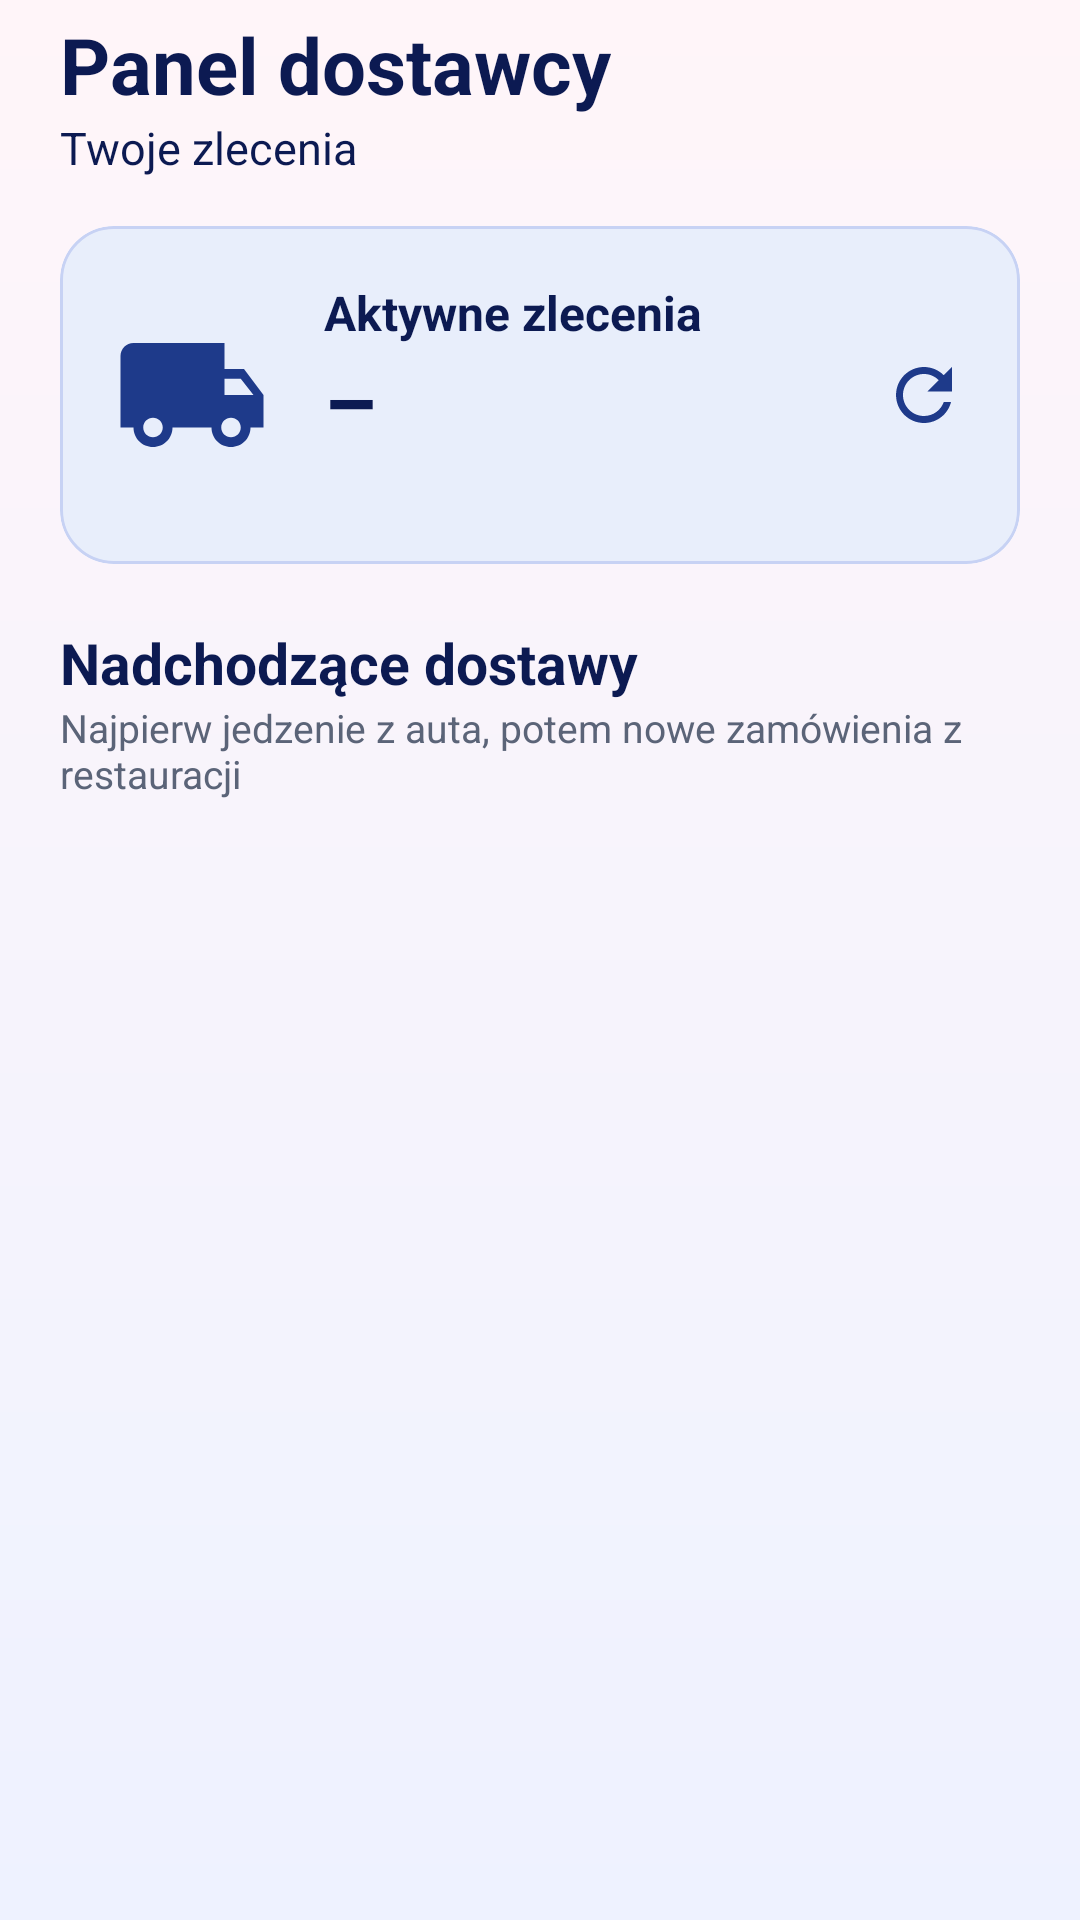

Icon bounding boxes for this 1080 × 1920 phone screenshot, format (x1, y1, x2, y2):
Odśwież: (896, 367, 952, 423)
Samochód: (120, 343, 264, 447)
